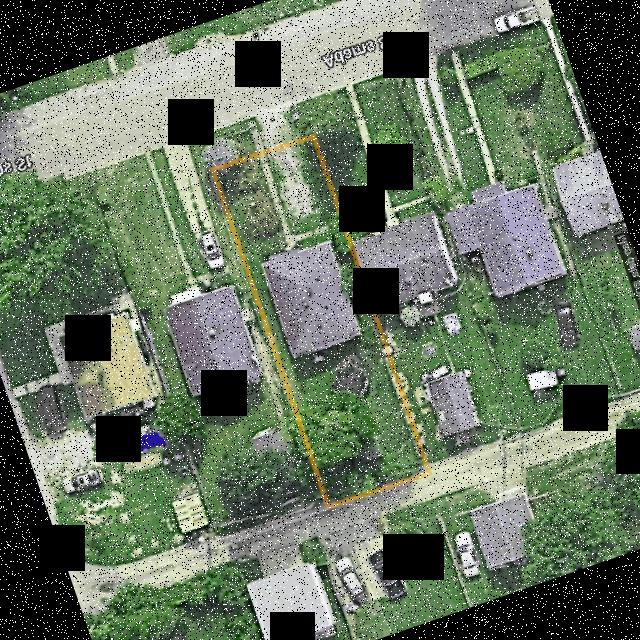Driveway: (269, 147, 313, 218)
Extra Driveway: (257, 107, 291, 145), (246, 116, 264, 150)
Extra Lawn: (198, 118, 256, 166), (282, 100, 317, 137)
House: (260, 238, 359, 355)
Other: (312, 352, 324, 361)
Sidewalk: (258, 152, 328, 249)
